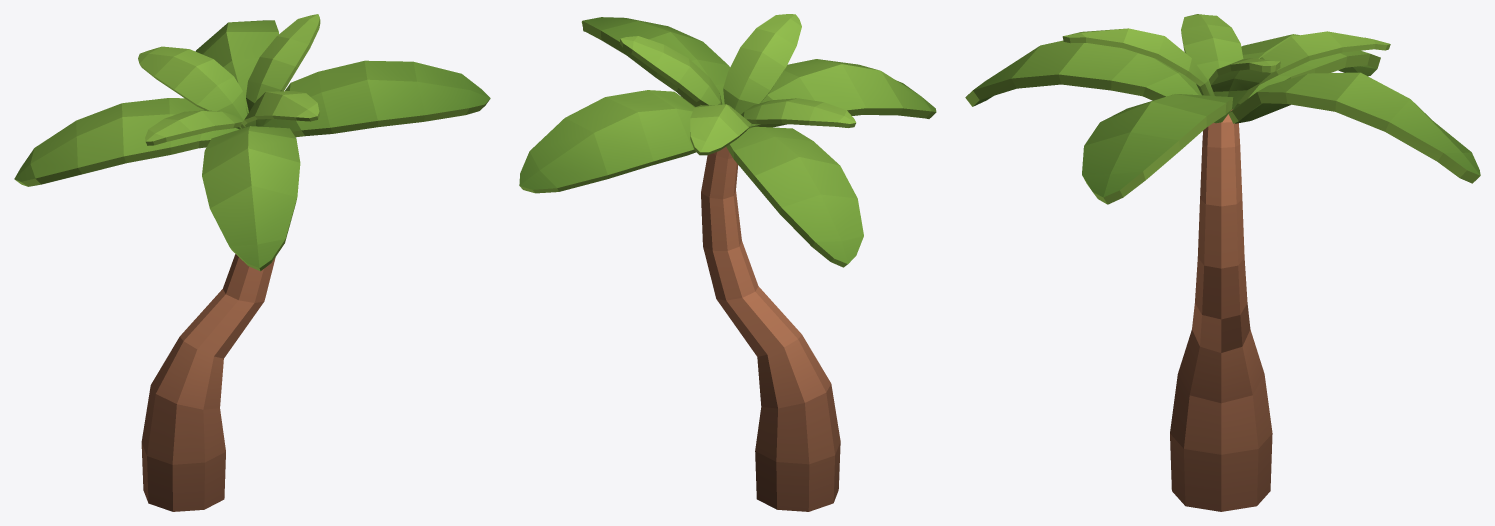
File: palm-tree-bent-3.glb
The picture shows the model from 3 angles, left to right: view 1: azimuth 30°, elevation 25°; view 2: azimuth 150°, elevation 25°; view 3: azimuth 270°, elevation 25°; orthographic projection. The views are drawn at different scales.
Parts seen in each view (by area): view 1: palm tree bent 3; view 2: palm tree bent 3; view 3: palm tree bent 3.
Boxes of the visible parts, x1=… form: palm tree bent 3: x1=14, y1=14, x2=490, y2=511; palm tree bent 3: x1=519, y1=14, x2=936, y2=511; palm tree bent 3: x1=965, y1=14, x2=1480, y2=511.
Size of the model in its own units: 5.59 by 6.21 by 5.62.
Materials: 1 (1 with a texture image).
